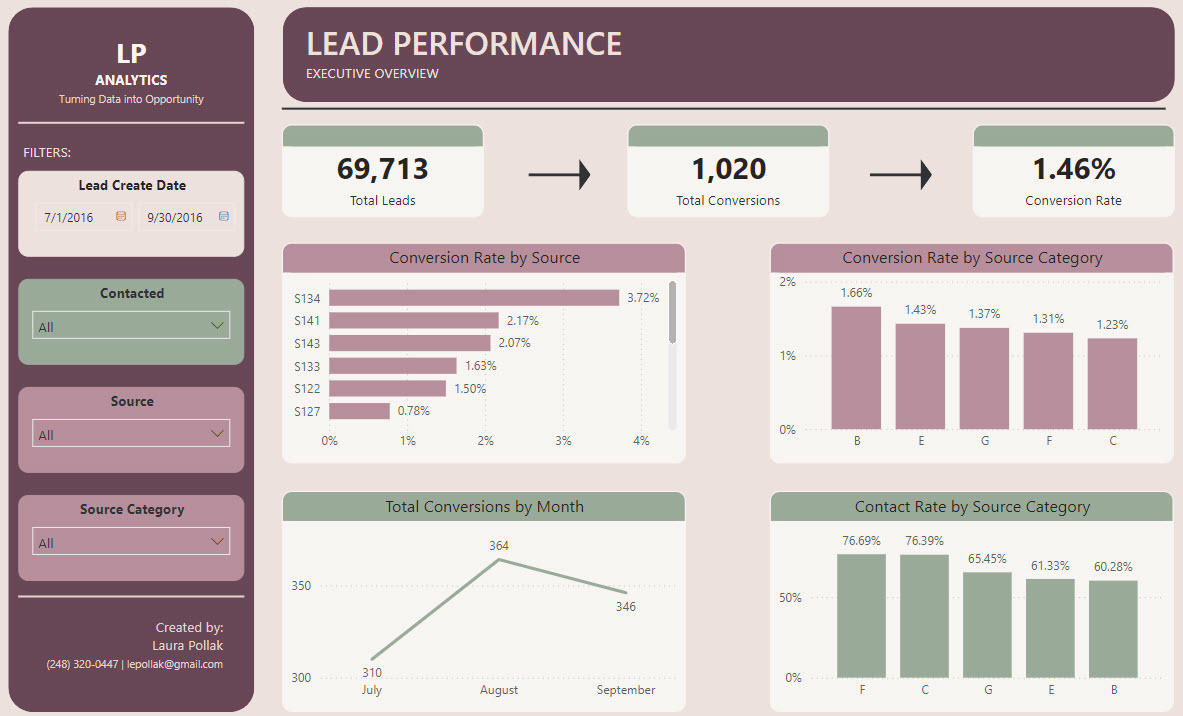

The page's visual inventory and layout, read from the dashboard file:
{"tool":"powerbi","page":{"name":"Page 1","canvas":[1280,720],"ordinal":0},"visuals":[{"type":"shape","box":[290,15,883,94],"z":0},{"type":"shape","box":[18,15,244,698],"z":1000},{"type":"card","title":" ","fields":{"Values":["Leads.Total Leads"]},"box":[289,131.1,200,92],"z":2000},{"type":"card","title":" ","fields":{"Values":["Leads.Total Conversions"]},"box":[631,131.1,200,92],"z":3000},{"type":"card","title":" ","fields":{"Values":["Leads.Conversion Rate"]},"box":[973,131.1,200,92],"z":4000},{"type":"clusteredBarChart","fields":{"Category":["Leads.Source"],"Y":["Leads.Conversion Rate"]},"box":[289,248,400,219],"z":5000},{"type":"lineChart","fields":{"Category":["Leads.Lead_Creation_Date.Variation.Date Hierarchy.Year","Leads.Lead_Creation_Date.Variation.Date Hierarchy.Month"],"Y":["Leads.Total Conversions"]},"box":[289,494,400,219],"z":6000},{"type":"slicer","title":"Contacted","fields":{"Values":["Leads.Contacted"]},"box":[28,284,224,85],"z":7000},{"type":"clusteredColumnChart","title":"Conversion Rate by Source Category","fields":{"Category":["Leads.Source_Category"],"Y":["Leads.Conversion Rate"]},"box":[772,248,400,219],"z":8000},{"type":"textbox","box":[308,23,332,76],"z":9000},{"type":"slicer","title":"Source","fields":{"Values":["Leads.Source"]},"box":[28,391,224,85],"z":10000},{"type":"shape","box":[290,100,882,31],"z":11000},{"type":"shape","box":[533,165,62,32],"z":12000},{"type":"shape","box":[871,165,62,32],"z":13000},{"type":"slicer","title":"Source Category","fields":{"Values":["Leads.Source_Category"]},"box":[28,498,224,85],"z":14000},{"type":"slicer","title":"Lead Create Date","fields":{"Values":["Leads.Lead_Creation_Date"]},"box":[28,177,224,85],"z":15000},{"type":"clusteredColumnChart","title":"Contact Rate by Source Category","fields":{"Category":["Leads.Source_Category"],"Y":["Leads.Contact Rate"]},"box":[772,494,400,219],"z":15001},{"type":"textbox","box":[44,37,192,93],"z":15002},{"type":"shape","box":[28,114,224,31],"z":15003},{"type":"textbox","box":[28,143.7,69,31],"z":15004},{"type":"shape","box":[28,583,224,31],"z":15005},{"type":"textbox","box":[44,604,192,100],"z":15006}]}

Visuals, with their boxes on the page's 1280x720 design canvas (x1, y1, x2, y2). These are canvas units, not pixel positions in the 1183x716 screenshot, which may show the page scaled, cropped or inside an application window:
shape: (x1=290, y1=15, x2=1173, y2=109)
shape: (x1=18, y1=15, x2=262, y2=713)
" " card: (x1=289, y1=131, x2=489, y2=223)
" " card: (x1=631, y1=131, x2=831, y2=223)
" " card: (x1=973, y1=131, x2=1173, y2=223)
clusteredBarChart - Leads.Source x Leads.Conversion Rate: (x1=289, y1=248, x2=689, y2=467)
lineChart - Leads.Lead_Creation_Date.Variation.Date Hierarchy.Year x Leads.Lead_Creation_Date.Variation.Date Hierarchy.Month: (x1=289, y1=494, x2=689, y2=713)
"Contacted" slicer: (x1=28, y1=284, x2=252, y2=369)
"Conversion Rate by Source Category" clusteredColumnChart: (x1=772, y1=248, x2=1172, y2=467)
textbox: (x1=308, y1=23, x2=640, y2=99)
"Source" slicer: (x1=28, y1=391, x2=252, y2=476)
shape: (x1=290, y1=100, x2=1172, y2=131)
shape: (x1=533, y1=165, x2=595, y2=197)
shape: (x1=871, y1=165, x2=933, y2=197)
"Source Category" slicer: (x1=28, y1=498, x2=252, y2=583)
"Lead Create Date" slicer: (x1=28, y1=177, x2=252, y2=262)
"Contact Rate by Source Category" clusteredColumnChart: (x1=772, y1=494, x2=1172, y2=713)
textbox: (x1=44, y1=37, x2=236, y2=130)
shape: (x1=28, y1=114, x2=252, y2=145)
textbox: (x1=28, y1=144, x2=97, y2=175)
shape: (x1=28, y1=583, x2=252, y2=614)
textbox: (x1=44, y1=604, x2=236, y2=704)
